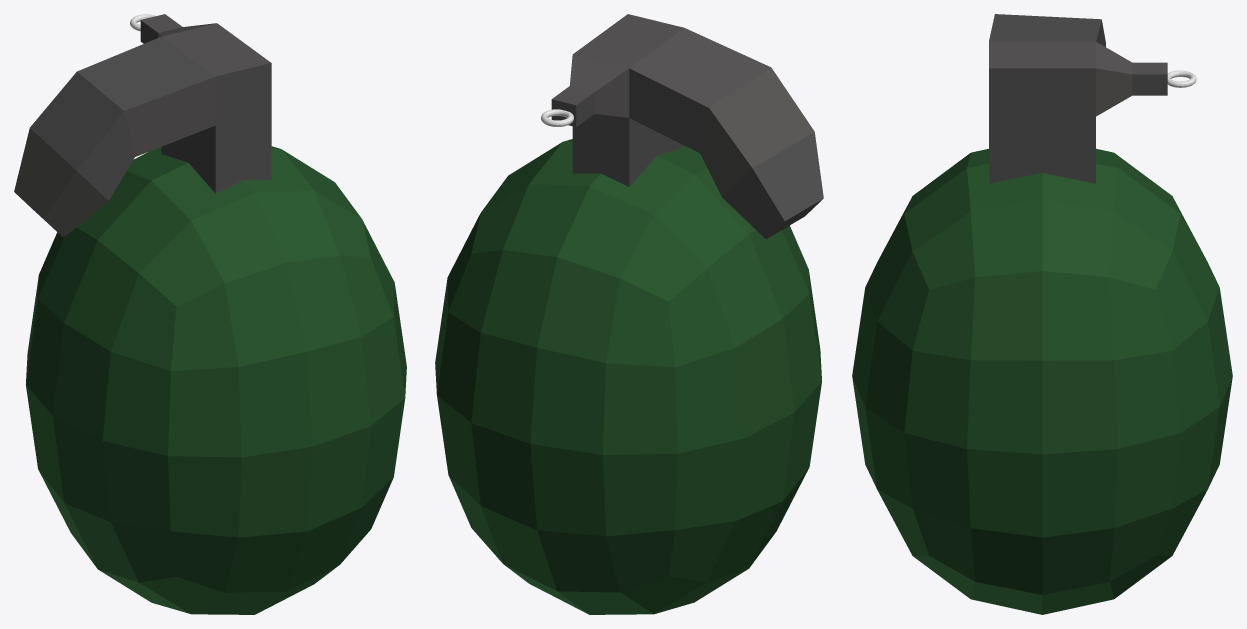
File: Grenade.fbx
The picture shows the model from 3 angles, left to right: view 1: azimuth 30°, elevation 25°; view 2: azimuth 150°, elevation 25°; view 3: azimuth 270°, elevation 25°; orthographic projection. The views are drawn at different scales.
Visible parts, largest first — view 1: grenadebottom, grip; view 2: grenadebottom, grip; view 3: grenadebottom, grip.
Boxes of the visible parts, x1=… form: grenadebottom: x1=26, y1=146, x2=406, y2=614; grip: x1=14, y1=14, x2=271, y2=237; grenadebottom: x1=435, y1=139, x2=821, y2=614; grip: x1=551, y1=14, x2=823, y2=238; grenadebottom: x1=852, y1=148, x2=1232, y2=614; grip: x1=989, y1=14, x2=1167, y2=183.
Bounding box in the file's own units: 18.66 × 28.48 × 18.06.
